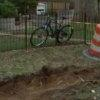Bicycle: (30, 11, 75, 50)
